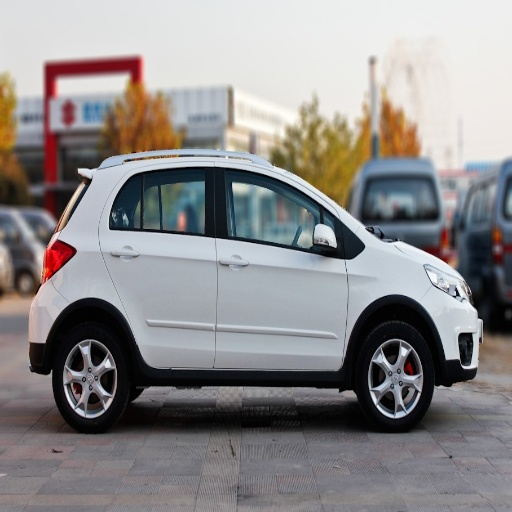back_bumper: (27, 281, 63, 345)
back_right_door: (101, 165, 217, 367)
front_right_door: (214, 165, 348, 366)
